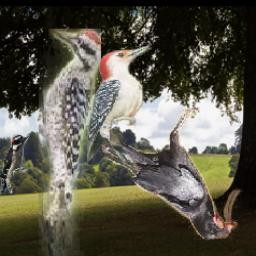Crow: (102, 109, 244, 245)
Woodpecker: (39, 29, 101, 256), (87, 45, 154, 171), (1, 134, 30, 194)
